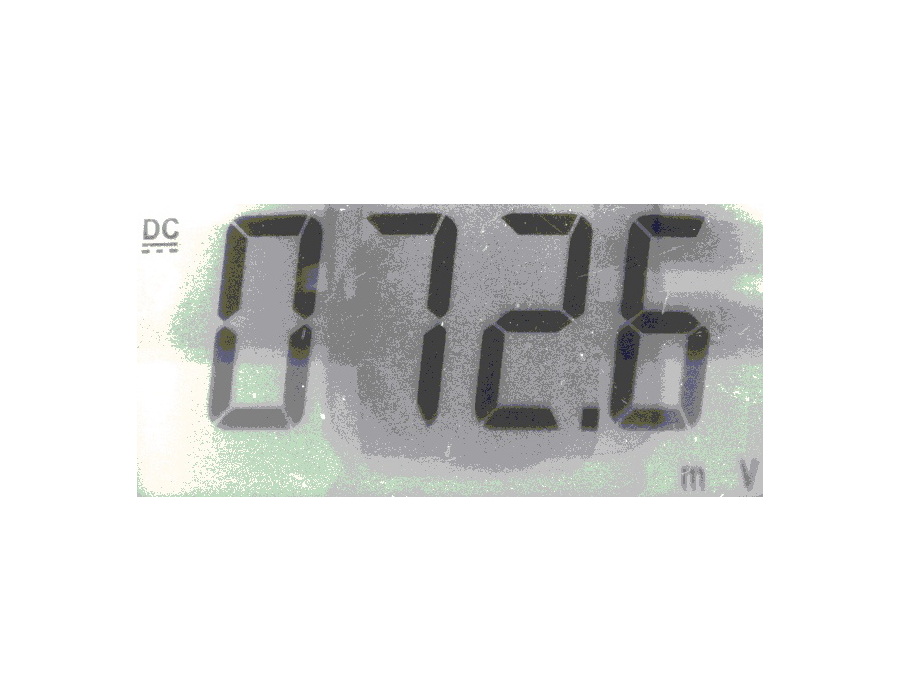.: (575, 401, 607, 443), (580, 404, 601, 437)
0: (206, 211, 326, 433)
2: (473, 210, 595, 433)
6: (608, 213, 715, 435)
7: (363, 212, 459, 430)
